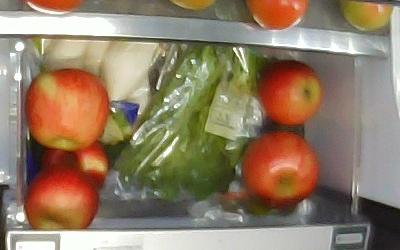apple: (26, 68, 109, 152), (243, 131, 318, 208), (25, 166, 99, 230), (258, 59, 323, 125), (42, 140, 107, 192)
